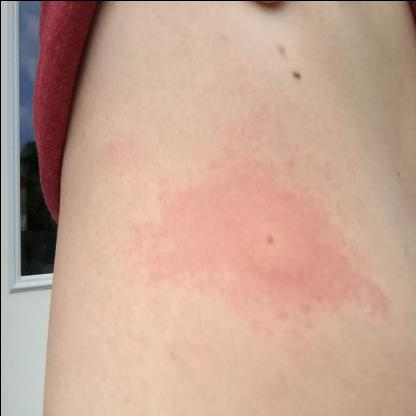Wasp: (220, 202, 321, 288)
